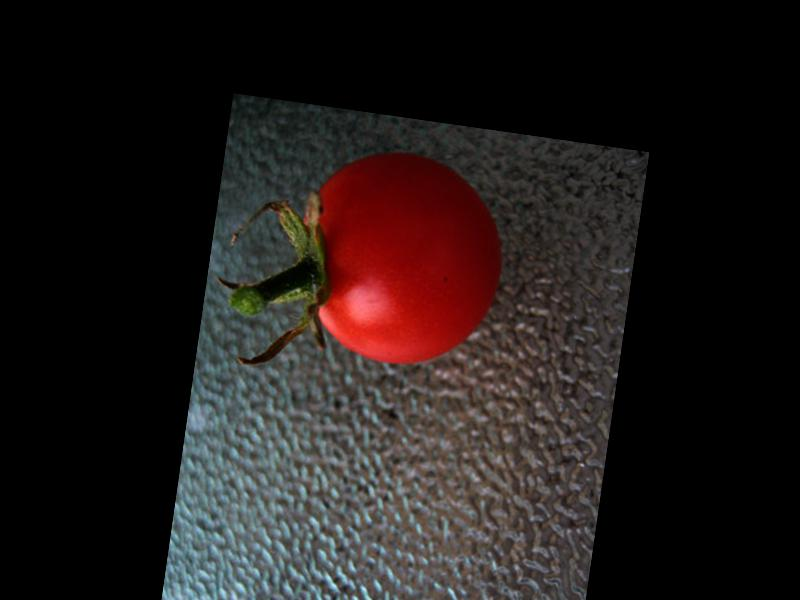Tomato: (295, 143, 515, 379)
